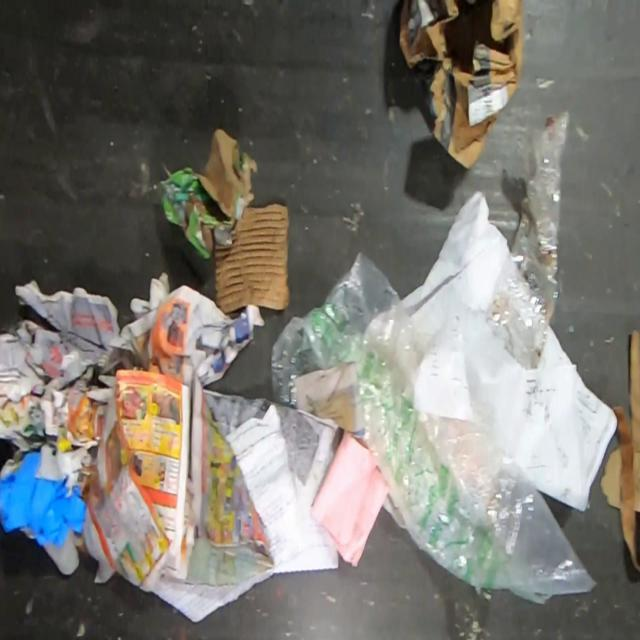cardboard: (398, 0, 524, 171), (156, 128, 259, 260), (212, 203, 291, 315), (600, 447, 621, 509), (633, 451, 639, 514)
soft_plastic: (270, 252, 598, 606), (487, 108, 572, 369)
